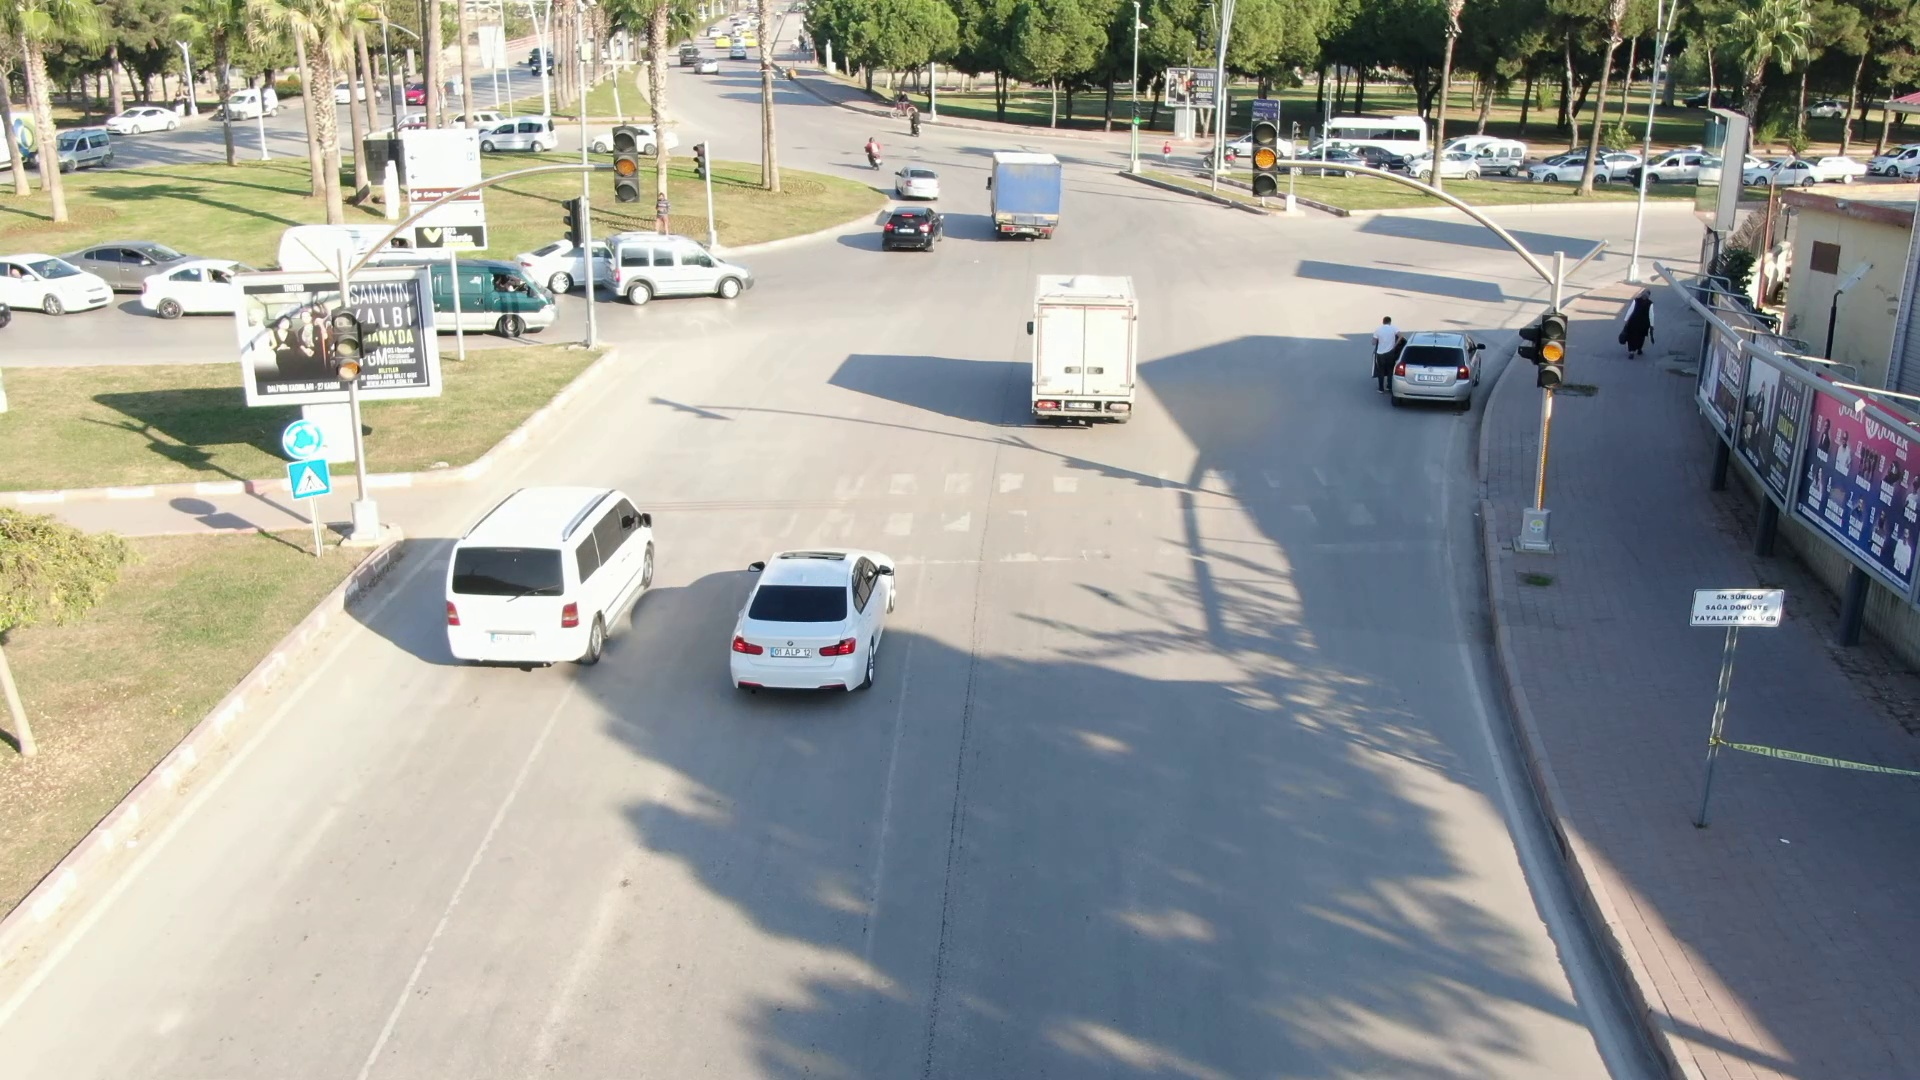car: (425, 458, 667, 669), (717, 530, 903, 712), (1010, 255, 1157, 442), (598, 223, 760, 314), (1392, 322, 1493, 422), (977, 145, 1078, 243), (875, 204, 949, 258), (883, 161, 950, 198)
person: (1624, 283, 1663, 370), (1368, 307, 1402, 396)
